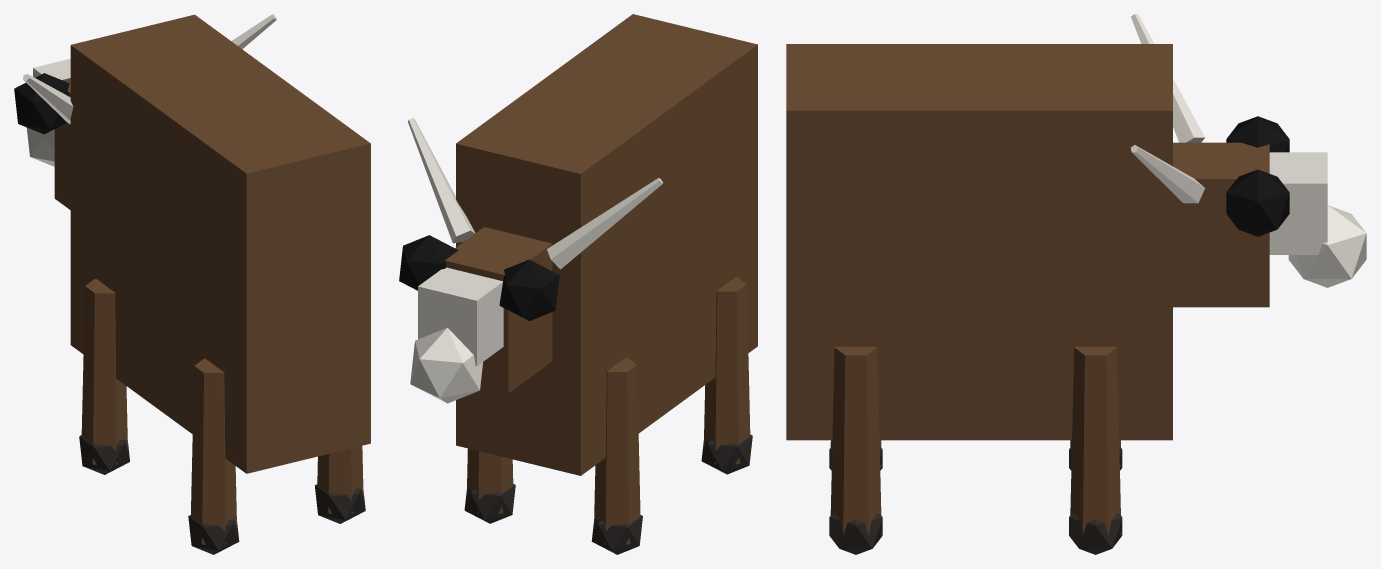
The model's file is ANI_Deer.fbx.
The picture shows the model from 3 angles, left to right: view 1: azimuth 30°, elevation 25°; view 2: azimuth 150°, elevation 25°; view 3: azimuth 270°, elevation 25°; orthographic projection. The views are drawn at different scales.
Visible parts, largest first — view 1: ANI_Deer__COL_Main, ANI_Deer__BODY; view 2: ANI_Deer__COL_Main, ANI_Deer__BODY; view 3: ANI_Deer__COL_Main, ANI_Deer__BODY.
Boxes of the visible parts, x1=… form: ANI_Deer__COL_Main: x1=70, y1=14, x2=370, y2=473; ANI_Deer__BODY: x1=14, y1=14, x2=367, y2=554; ANI_Deer__COL_Main: x1=456, y1=14, x2=757, y2=475; ANI_Deer__BODY: x1=399, y1=118, x2=752, y2=554; ANI_Deer__COL_Main: x1=786, y1=44, x2=1172, y2=440; ANI_Deer__BODY: x1=829, y1=14, x2=1366, y2=554.
Bounding box in the file's own units: 1.12 × 1.71 × 2.03.
